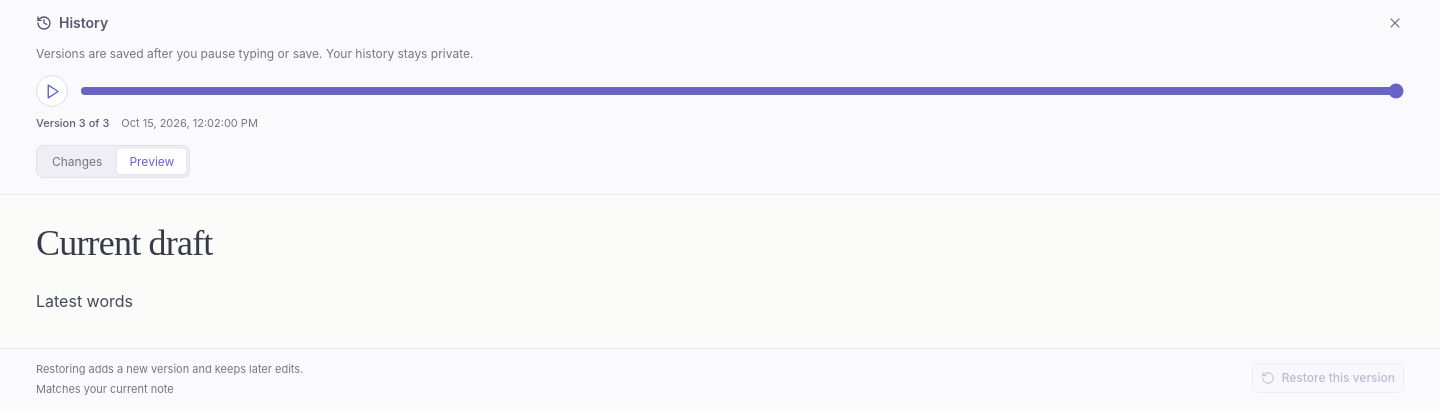
note history › keeps preview as the default for private notes and describes missing edit records
Check: the element named "Version preview" is shown, box [36,223,212,311]
Click the button "Changes": (77, 161) [40,149,114,174]
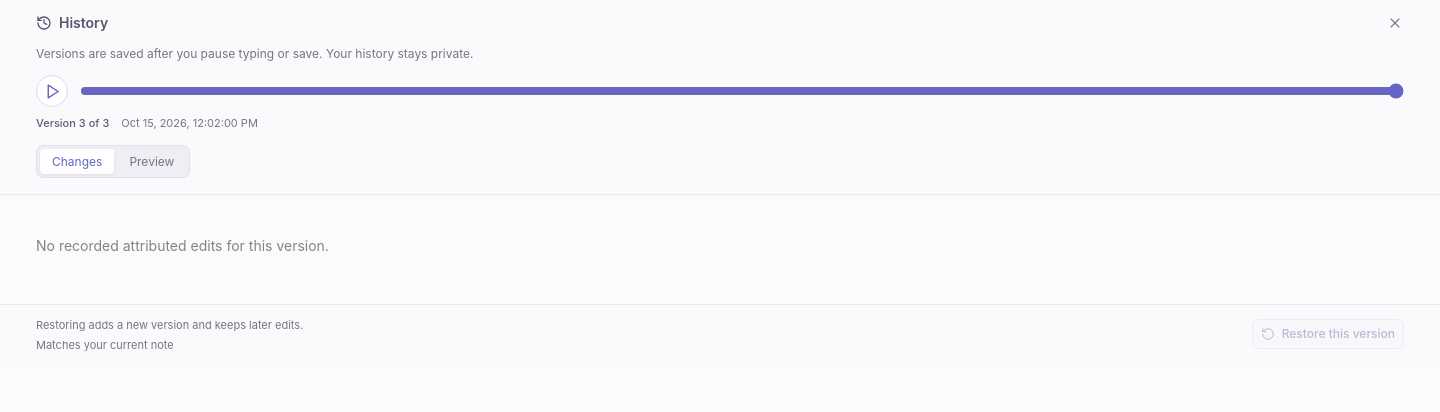
Check: the text "No recorded attributed edits for this version." is shown, box [36,237,329,254]
